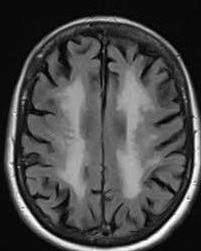Normal_Brain: (4, 6, 201, 251)
